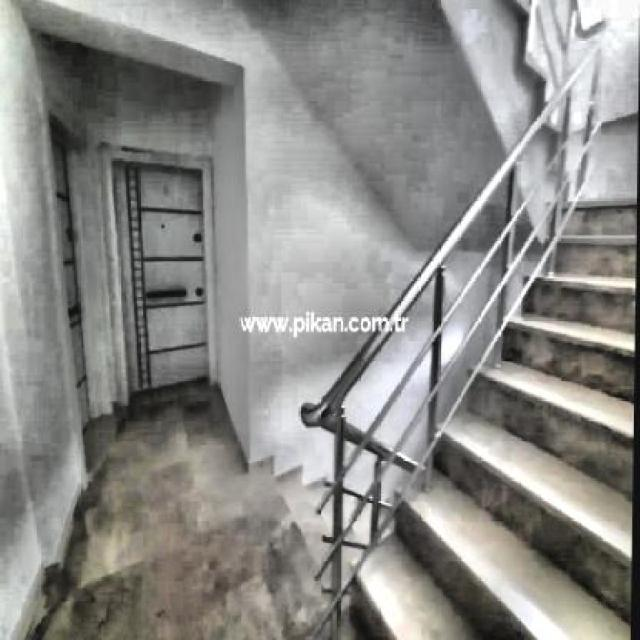stair: (332, 164, 638, 640)
